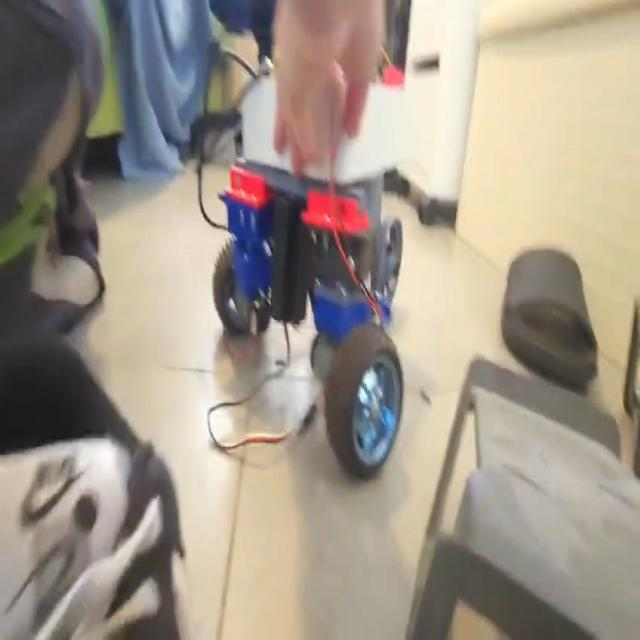Robot: (211, 52, 407, 482)
